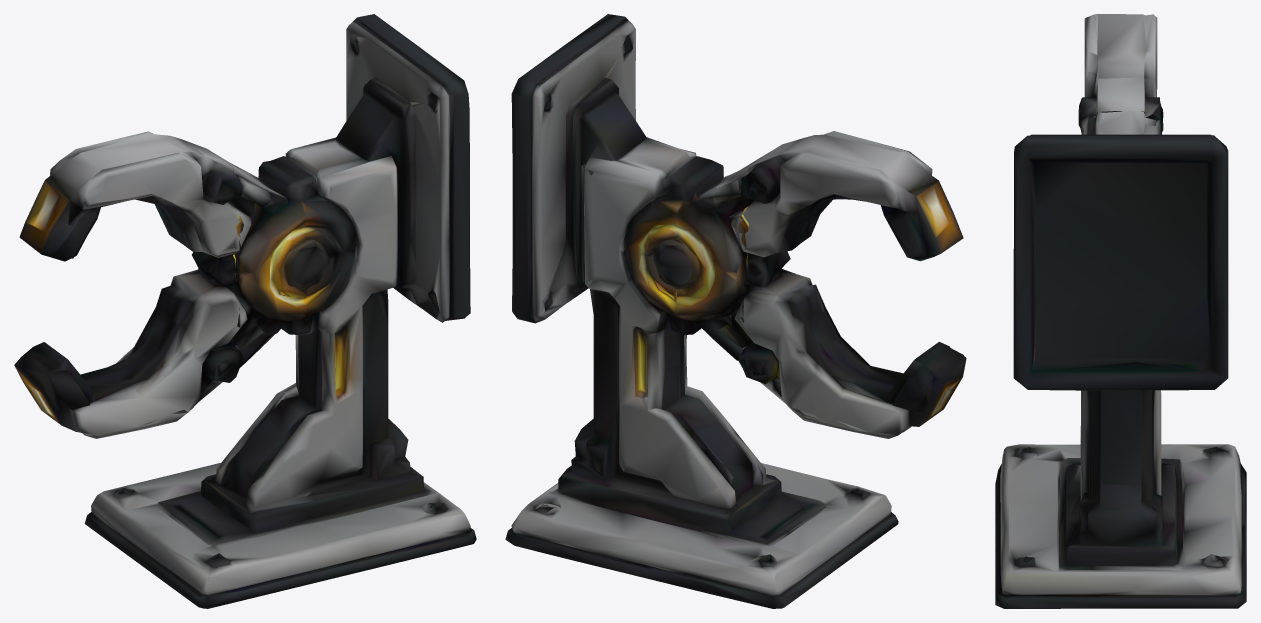
The model's file is model-36-gripper.glb.
The picture shows the model from 3 angles, left to right: view 1: azimuth 30°, elevation 25°; view 2: azimuth 150°, elevation 25°; view 3: azimuth 270°, elevation 25°; orthographic projection. The views are drawn at different scales.
Visible parts, largest first — view 1: Frame, Moving; view 2: Frame, Moving; view 3: Frame, Moving.
Part boxes in pixels (x1,y1,x2,y2): Frame: [82, 14, 476, 608]; Moving: [14, 131, 242, 435]; Frame: [505, 14, 911, 608]; Moving: [739, 131, 966, 435]; Frame: [995, 110, 1246, 608]; Moving: [1078, 14, 1163, 131].
Bounding box in the file's own units: 0.7672 × 0.8456 × 0.4117.
